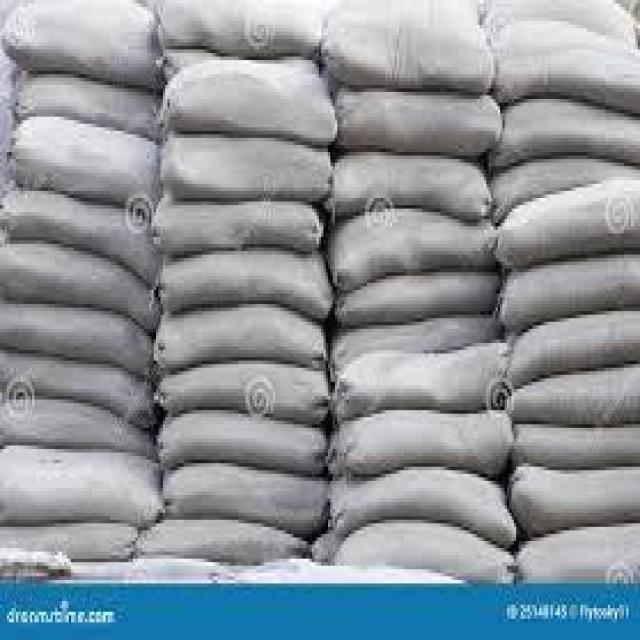gunny_bag: (330, 343, 512, 429), (1, 187, 157, 286), (322, 5, 493, 93), (10, 114, 156, 212), (162, 56, 336, 138), (330, 466, 517, 540), (331, 209, 494, 290), (8, 3, 163, 88), (496, 180, 640, 271), (326, 409, 516, 477), (1, 446, 159, 527), (336, 83, 505, 158), (0, 248, 157, 328), (154, 303, 329, 374), (493, 19, 637, 103), (331, 150, 492, 224), (487, 98, 640, 175), (158, 251, 333, 317), (158, 138, 328, 205), (2, 300, 152, 375), (159, 409, 330, 473), (164, 463, 328, 529), (147, 199, 322, 259), (157, 364, 330, 423), (508, 465, 639, 540), (5, 357, 152, 423), (498, 258, 639, 325), (335, 271, 495, 328), (2, 397, 157, 455), (14, 76, 156, 138), (512, 313, 637, 381), (144, 515, 311, 562), (508, 370, 640, 424), (510, 423, 639, 468), (8, 522, 137, 562)
